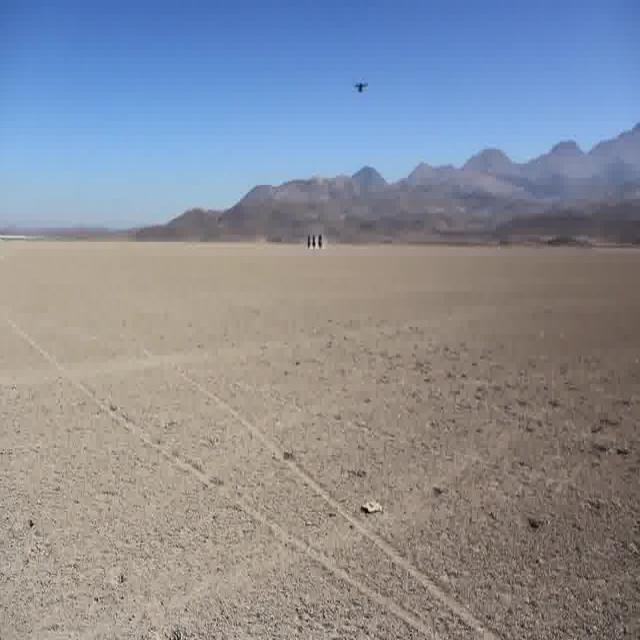drones: (348, 69, 372, 102)
